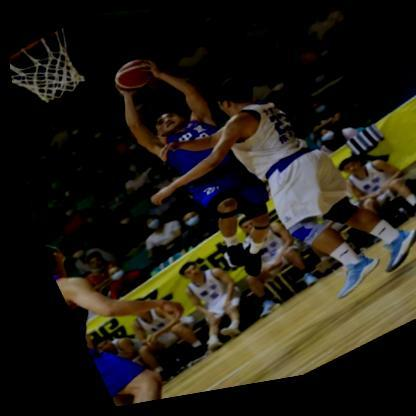basketball: (104, 56, 156, 102)
rim: (4, 24, 94, 124)
